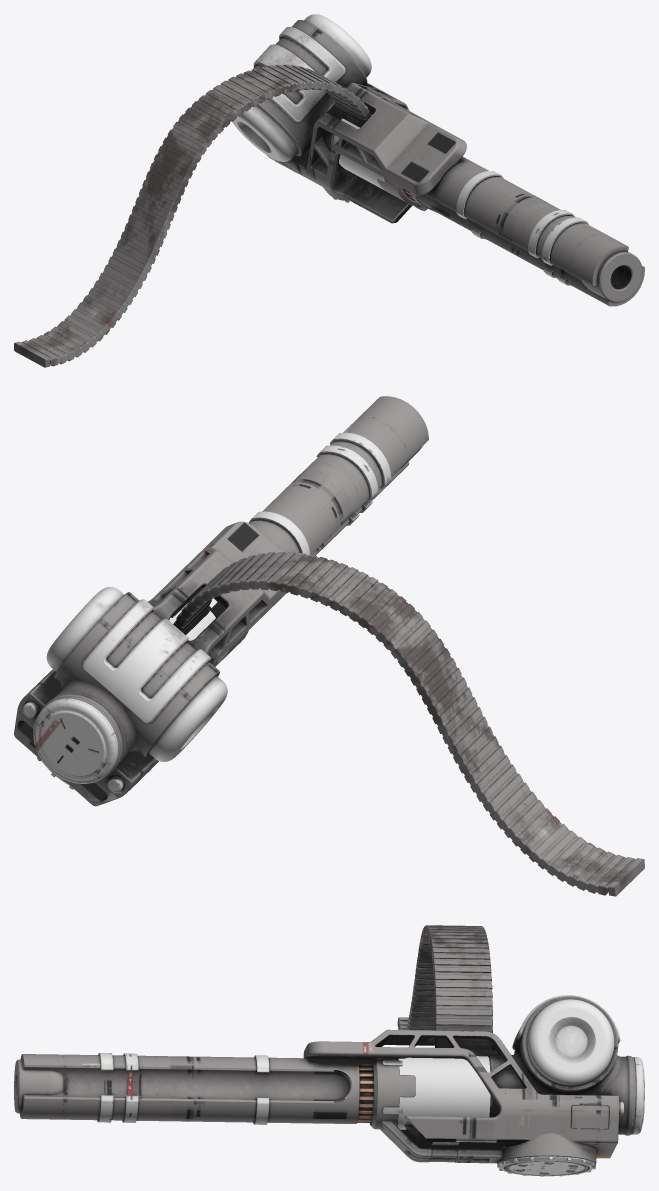
Rendered from Mini_Gun.fbx.
The picture shows the model from 3 angles, top to bottom: view 1: azimuth 30°, elevation 25°; view 2: azimuth 150°, elevation 25°; view 3: azimuth 270°, elevation 25°; orthographic projection. The views are drawn at different scales.
Visible parts, largest first — view 1: Mini_Gun; view 2: Mini_Gun; view 3: Mini_Gun.
Boxes of the visible parts, box(x1,y1,x2,y2) form: Mini_Gun: box(14, 14, 644, 367); Mini_Gun: box(14, 396, 644, 896); Mini_Gun: box(14, 925, 644, 1176).
Size of the model in its own units: 97.59 by 45.72 by 121.
2 materials, 1 textured.
